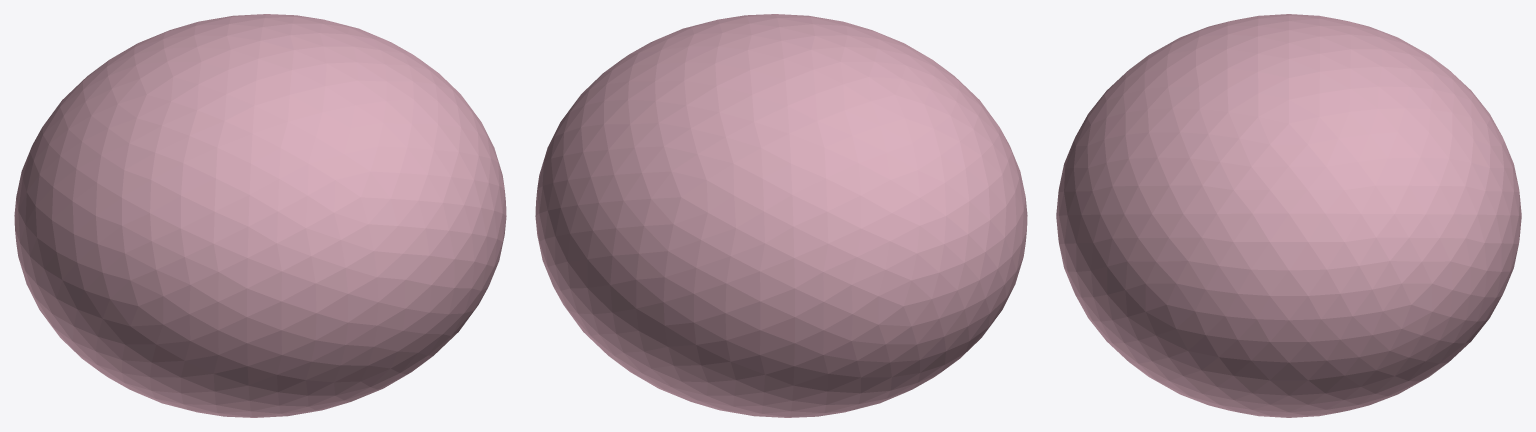
The picture shows the model from 3 angles, left to right: view 1: azimuth 30°, elevation 25°; view 2: azimuth 150°, elevation 25°; view 3: azimuth 270°, elevation 25°; orthographic projection.
Parts seen in each view (by area): view 1: geometry_0; view 2: geometry_0; view 3: geometry_0.
Boxes of the visible parts, <box> form: geometry_0: <box>14,14,506,417</box>; geometry_0: <box>535,14,1027,417</box>; geometry_0: <box>1056,14,1521,417</box>.
Bounding box in the file's own units: 1.06 × 0.82 × 1.
